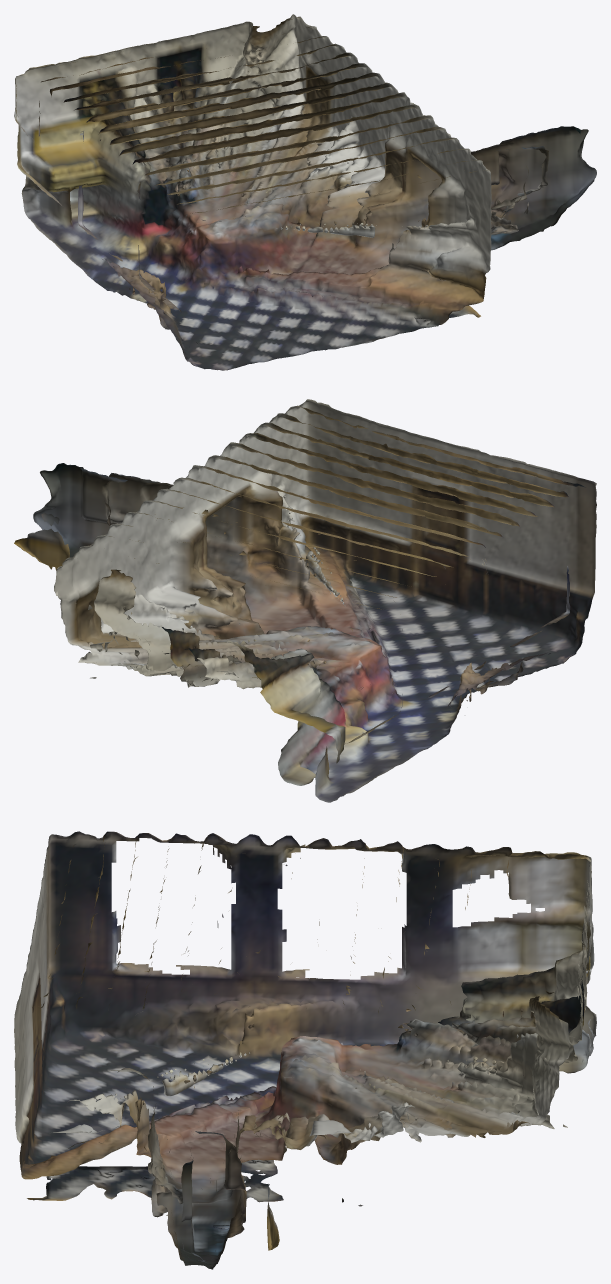
Rendered from music-lesson.glb.
The picture shows the model from 3 angles, top to bottom: view 1: azimuth 30°, elevation 25°; view 2: azimuth 150°, elevation 25°; view 3: azimuth 270°, elevation 25°; orthographic projection. The views are drawn at different scales.
Parts seen in each view (by area): view 1: world; view 2: world; view 3: world.
Boxes of the visible parts, left/top/right/bottom form: world: left=14, top=14, right=596, bottom=370; world: left=14, top=399, right=596, bottom=802; world: left=14, top=831, right=596, bottom=1269.
Bounding box in the file's own units: 8.49 × 2.85 × 7.2.
